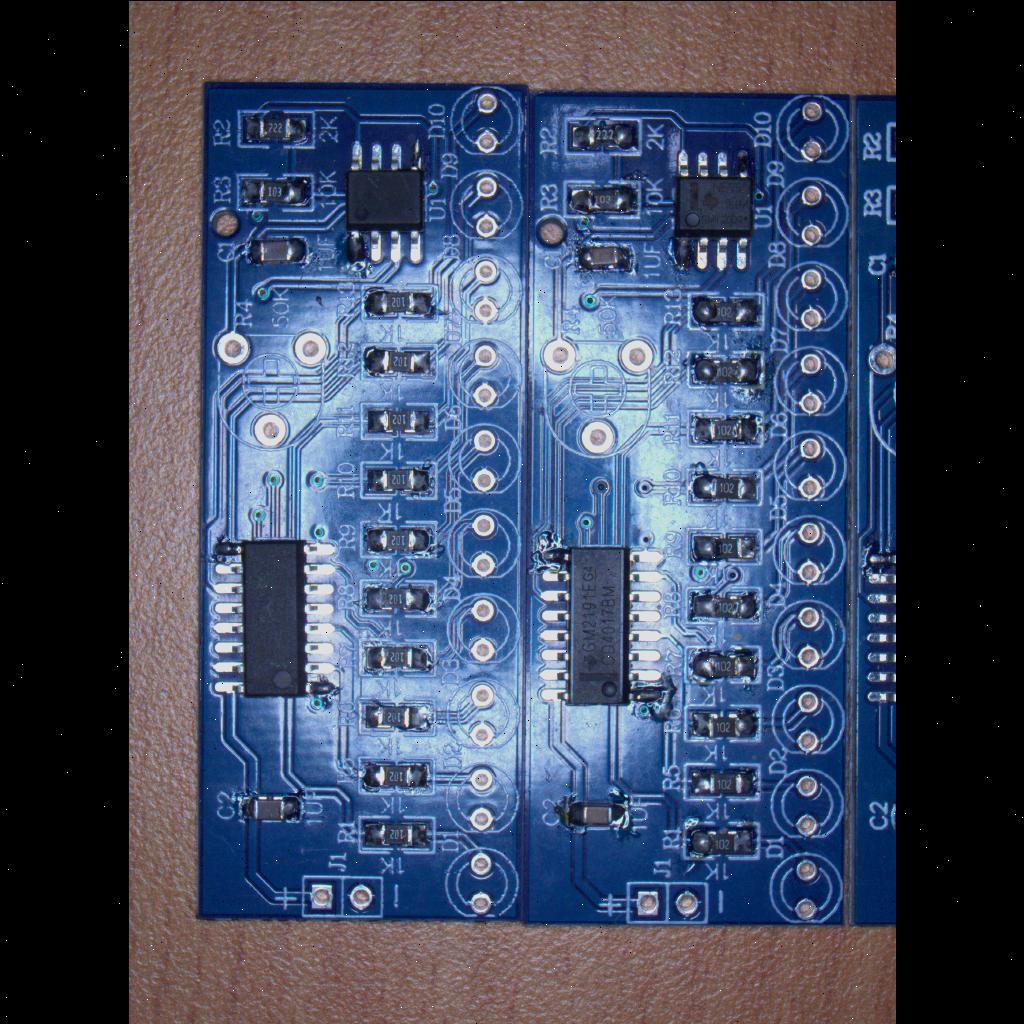OK: (530, 532, 668, 712), (202, 534, 344, 706), (338, 129, 434, 269), (664, 141, 760, 273), (679, 639, 769, 689), (678, 814, 762, 866), (354, 810, 438, 860), (677, 699, 767, 745), (560, 112, 648, 158), (356, 456, 440, 504), (678, 581, 768, 625), (681, 288, 771, 332), (232, 168, 318, 214), (678, 758, 764, 804), (682, 523, 768, 569), (682, 406, 768, 452), (232, 106, 320, 150), (680, 464, 768, 508), (556, 790, 636, 838), (563, 174, 643, 222), (356, 340, 444, 382), (358, 398, 442, 442), (355, 518, 439, 562), (354, 576, 442, 618), (356, 636, 440, 680), (354, 754, 438, 798), (686, 346, 770, 390), (357, 280, 437, 326), (356, 696, 438, 738), (572, 236, 642, 278), (240, 231, 316, 269), (236, 788, 306, 826)
